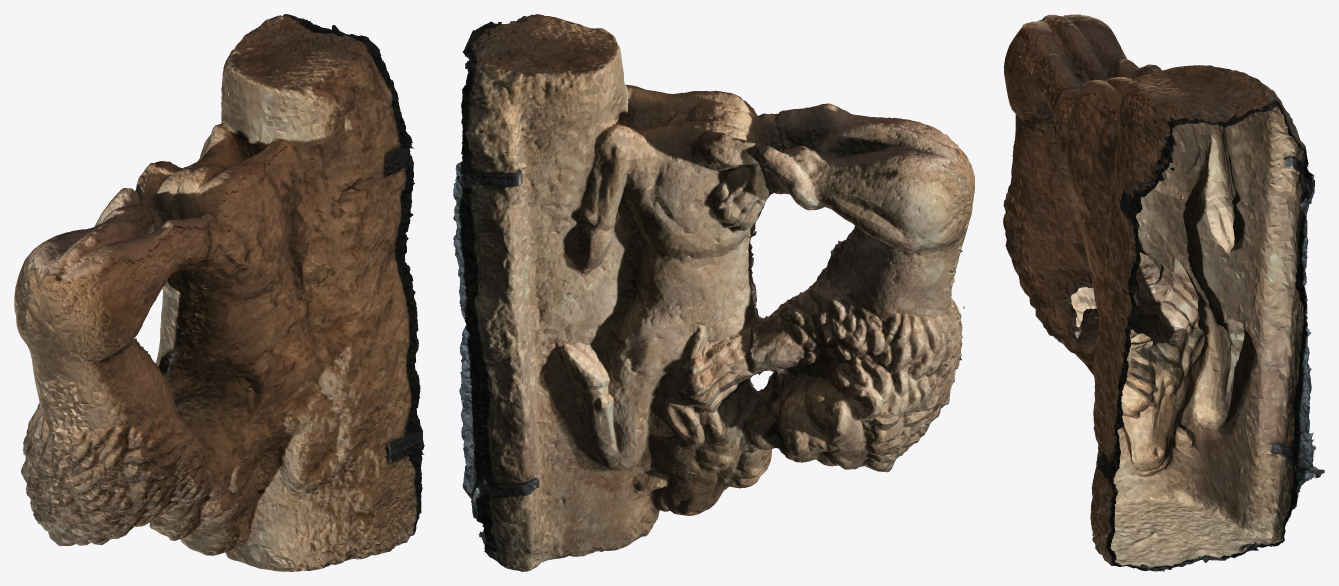
Rendered from lion.obj.
3 renders of one model, left to right at view 1: azimuth 30°, elevation 25°; view 2: azimuth 150°, elevation 25°; view 3: azimuth 270°, elevation 25°, orthographic. The views are drawn at different scales.
Size of the model in its own units: 36.52 by 39.44 by 24.73.
1 material, 1 textured.
